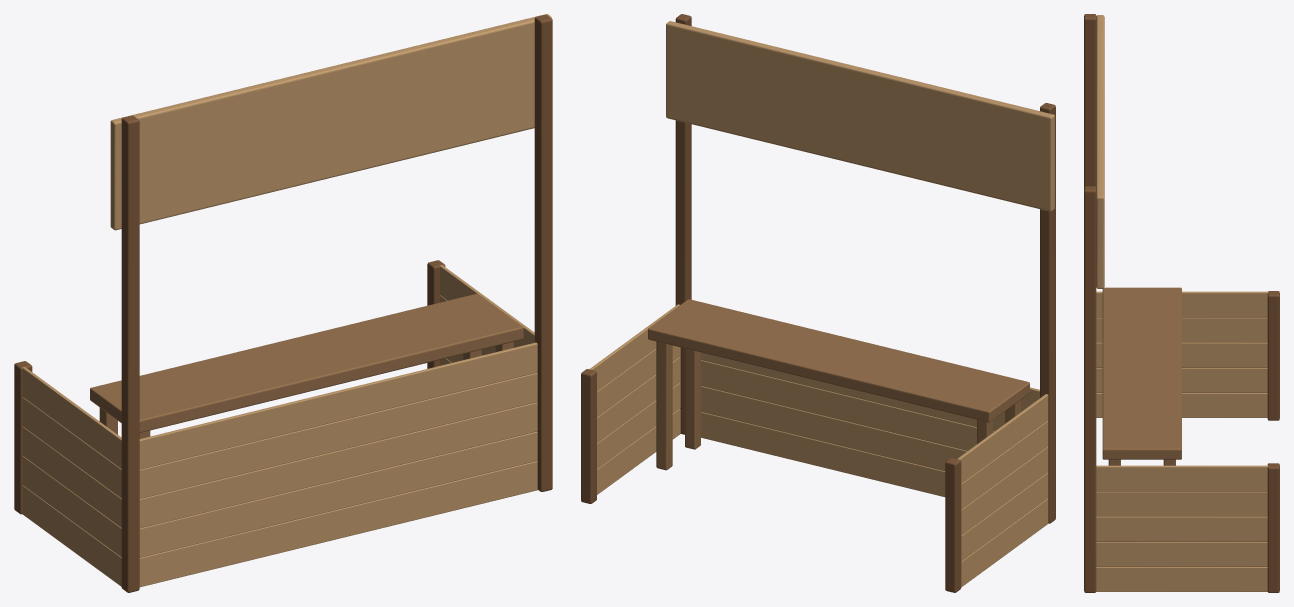
File: Market Stalls.glb
The picture shows the model from 3 angles, left to right: view 1: azimuth 30°, elevation 25°; view 2: azimuth 150°, elevation 25°; view 3: azimuth 270°, elevation 25°; orthographic projection. The views are drawn at different scales.
Parts seen in each view (by area): view 1: Plank (×11), Sign, TableTop, Post (×3); view 2: Plank (×14), Sign, TableTop, Post (×4), TableLeg (×2); view 3: Plank (×10), TableTop, Post (×4), Sign.
Part boxes in pixels (bbox=[...]): Plank (×11): bbox=[22, 265, 537, 587]; Sign: bbox=[110, 14, 551, 230]; TableTop: bbox=[90, 293, 523, 432]; Post (×3): bbox=[14, 14, 552, 592]; Plank (×14): bbox=[589, 304, 1048, 587]; Sign: bbox=[666, 21, 1054, 211]; TableTop: bbox=[648, 299, 1029, 422]; Post (×4): bbox=[581, 14, 1055, 592]; TableLeg (×2): bbox=[656, 341, 700, 470]; Plank (×10): bbox=[1096, 291, 1268, 591]; TableTop: bbox=[1102, 287, 1181, 459]; Post (×4): bbox=[1084, 14, 1279, 592]; Sign: bbox=[1096, 15, 1104, 288].
Size of the model in its own units: 2.65 by 2.72 by 1.2.
